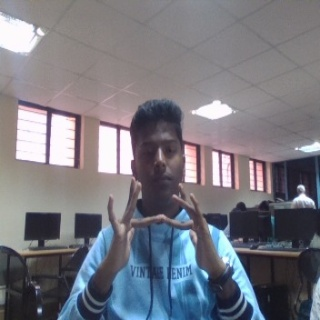Internet: (98, 175, 222, 273)
